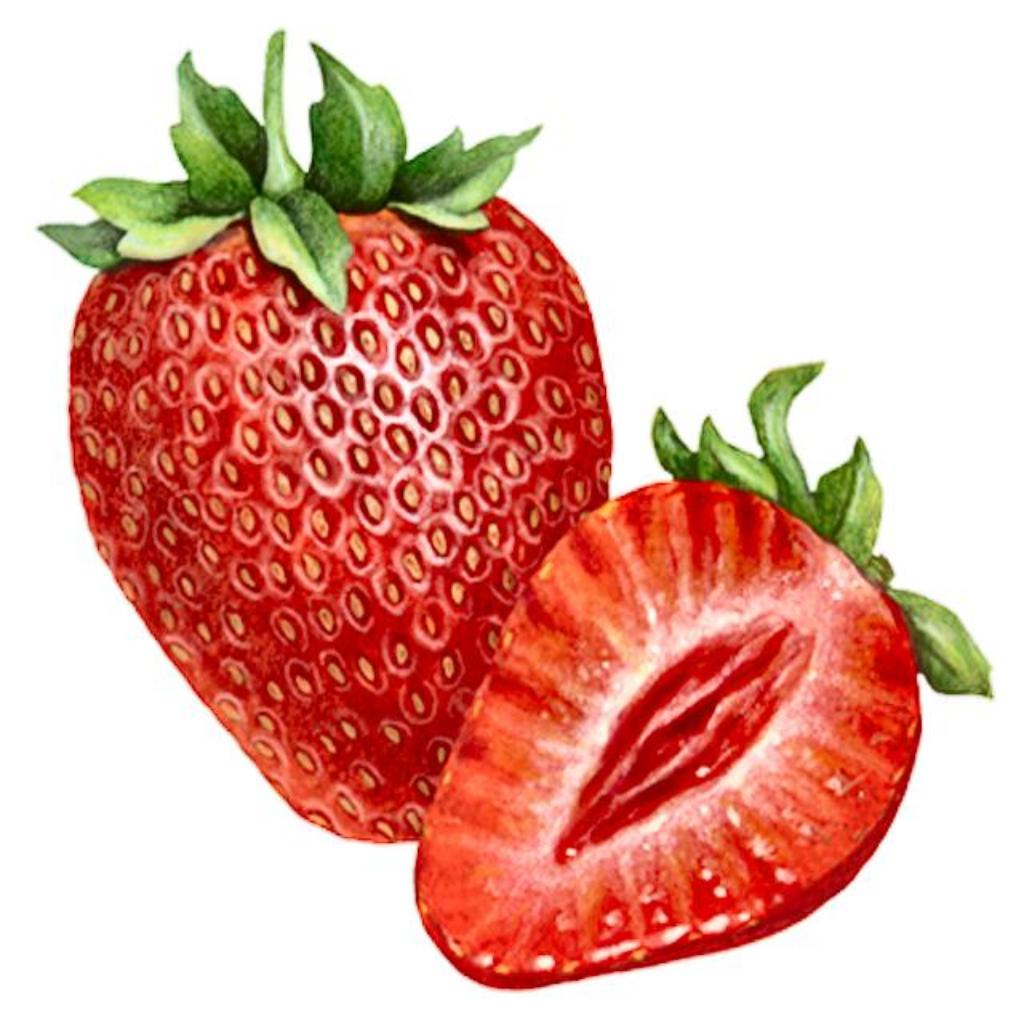strawberry: (52, 34, 612, 840), (416, 364, 990, 987)
